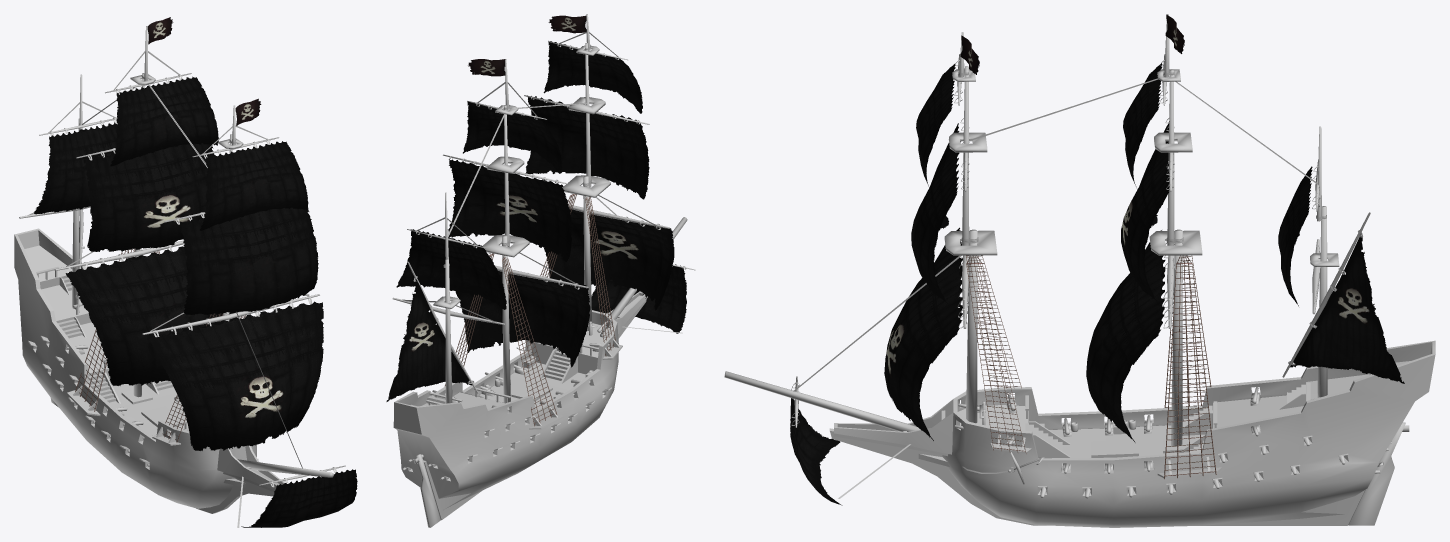
File: Big_ship_pirate.FBX
3 renders of one model, left to right at view 1: azimuth 30°, elevation 25°; view 2: azimuth 150°, elevation 25°; view 3: azimuth 270°, elevation 25°, orthographic. The views are drawn at different scales.
Visible parts, largest first — view 1: Pirate_Sails_no logo, Big_pirate_ship, Pirate_Sails_logo, Rope; view 2: Big_pirate_ship, Pirate_Sails_no logo, Pirate_Sails_logo, Rope, Guns; view 3: Big_pirate_ship, Pirate_Sails_logo, Pirate_Sails_no logo, Rope, Guns.
Boxes of the visible parts, x1,y1,x2,y2 form: Pirate_Sails_no logo: [34, 76, 357, 527]; Big_pirate_ship: [14, 26, 345, 527]; Pirate_Sails_logo: [79, 17, 323, 450]; Rope: [75, 248, 245, 442]; Big_pirate_ship: [392, 14, 695, 527]; Pirate_Sails_no logo: [396, 41, 686, 367]; Pirate_Sails_logo: [386, 15, 674, 401]; Rope: [444, 194, 615, 426]; Guns: [402, 321, 609, 479]; Big_pirate_ship: [724, 14, 1435, 527]; Pirate_Sails_logo: [884, 14, 1404, 440]; Pirate_Sails_no logo: [790, 63, 1312, 505]; Rope: [966, 255, 1216, 479]; Guns: [954, 387, 1388, 498].
Size of the model in its own units: 21.34 by 49.51 by 62.1.
